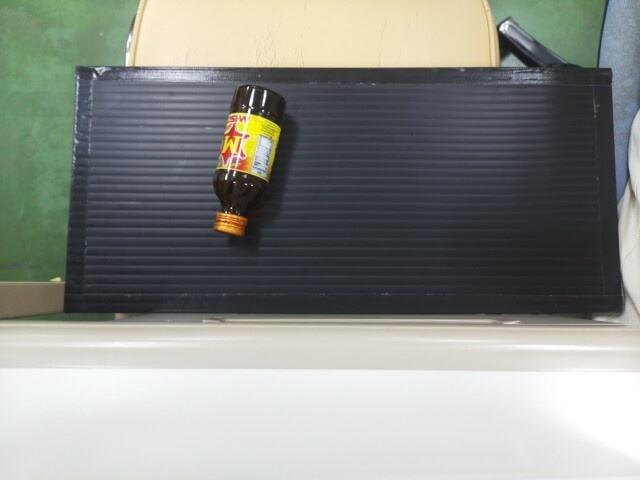glass_bottle: (211, 84, 285, 235)
